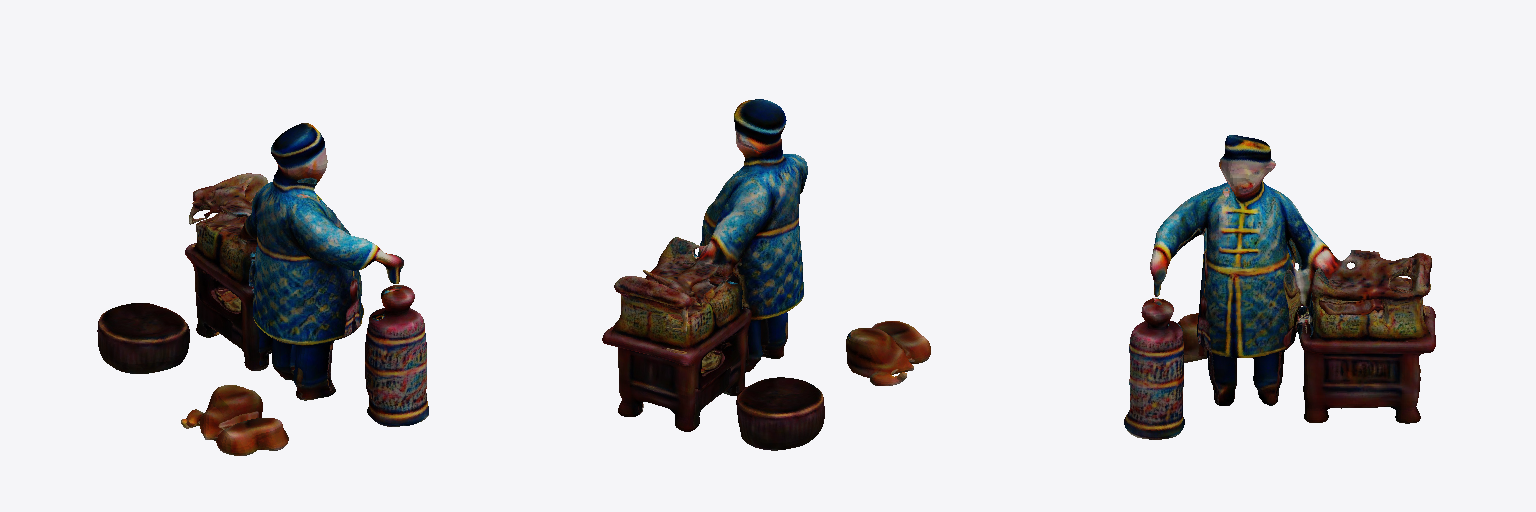
3 renders of one model, left to right at view 1: azimuth 30°, elevation 25°; view 2: azimuth 150°, elevation 25°; view 3: azimuth 270°, elevation 25°, orthographic.
Parts seen in each view (by area): view 1: mesh; view 2: mesh; view 3: mesh.
Part boxes in pixels (left/top/right/bottom): mesh: left=97, top=123, right=428, bottom=455; mesh: left=602, top=99, right=930, bottom=450; mesh: left=1124, top=135, right=1435, bottom=439.
Size of the model in its own units: 0.7901 by 0.9434 by 0.9978.
1 materials, 1 textured.